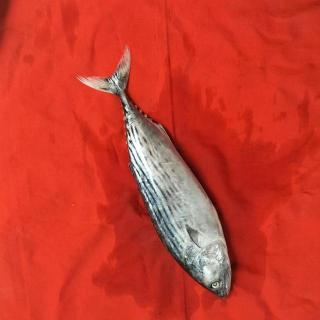Ikan: (89, 61, 239, 307)
